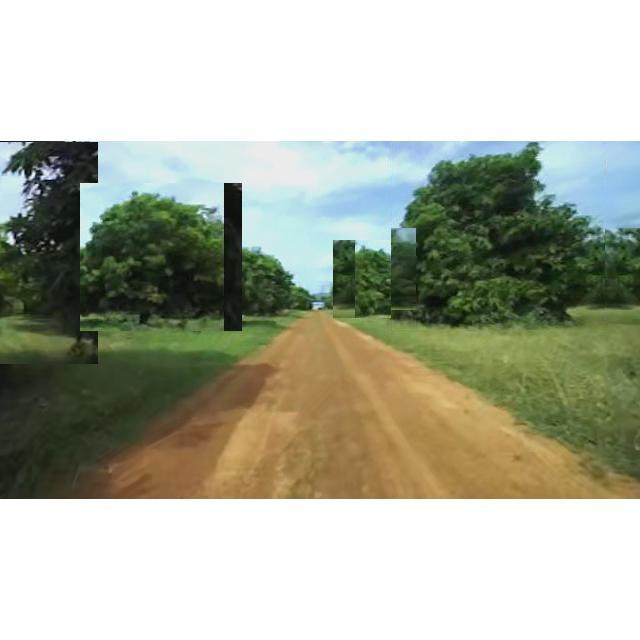direk: (391, 143, 605, 331), (80, 183, 242, 331), (0, 142, 98, 364), (192, 248, 308, 320), (333, 240, 413, 318), (580, 228, 640, 310)
